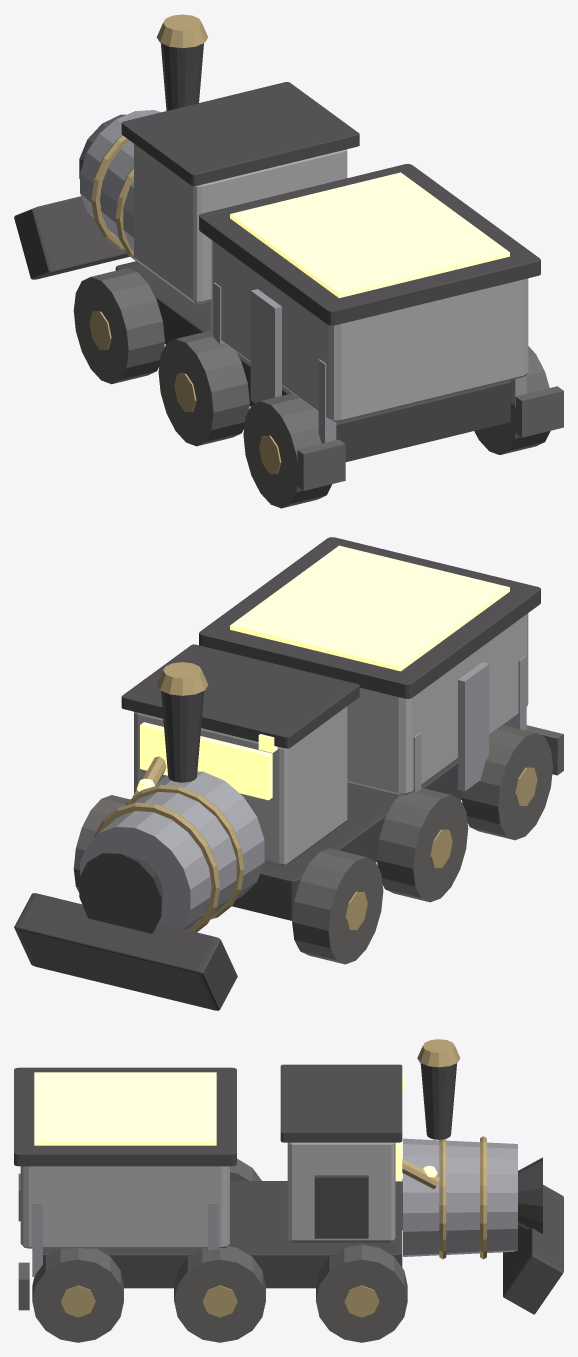
The model's file is unit_harvester.glb.
3 renders of one model, top to bottom at view 1: azimuth 30°, elevation 25°; view 2: azimuth 150°, elevation 25°; view 3: azimuth 270°, elevation 25°, orthographic. The views are drawn at different scales.
Parts seen in each view (by area): view 1: HV_Hopper, HV_Ore, HV_CabRoof, HV_HopperRim, HV_Cab, HV_Chassis, HV_Wheel.002, HV_Wheel.001, HV_Wheel, HV_Plow, HV_Boiler, HV_Ladder (+11 smaller); view 2: HV_Ore, HV_Plow, HV_Hopper, HV_Boiler, HV_HopperRim, HV_CabRoof, HV_Cab, HV_Wheel.002, HV_Wheel.001, HV_Chassis, HV_Wheel, HV_BoilerCap (+12 smaller); view 3: HV_Hopper, HV_Ore, HV_Boiler, HV_Chassis, HV_CabRoof, HV_HopperRim, HV_Cab, HV_Wheel.005, HV_Wheel.004, HV_Wheel.003, HV_Plow, HV_CabDoor (+13 smaller).
Part boxes in pixels (x1,y1,x2,y2): HV_Hopper: [211, 240, 528, 421]; HV_Ore: [230, 172, 509, 298]; HV_CabRoof: [121, 82, 359, 186]; HV_HopperRim: [199, 164, 540, 325]; HV_Cab: [134, 144, 347, 304]; HV_Chassis: [115, 261, 510, 461]; HV_Wheel.002: [73, 268, 164, 384]; HV_Wheel.001: [158, 330, 249, 446]; HV_Wheel: [243, 393, 332, 508]; HV_Plow: [14, 196, 129, 279]; HV_Boiler: [80, 110, 160, 250]; HV_Ladder: [250, 289, 281, 403]; HV_Ore: [230, 545, 509, 671]; HV_Plow: [14, 893, 237, 1010]; HV_Hopper: [347, 613, 528, 795]; HV_Boiler: [80, 771, 264, 929]; HV_HopperRim: [199, 537, 540, 698]; HV_CabRoof: [121, 644, 359, 748]; HV_Cab: [134, 706, 347, 866]; HV_Wheel.002: [292, 848, 383, 964]; HV_Wheel.001: [377, 787, 468, 902]; HV_Chassis: [232, 721, 509, 920]; HV_Wheel: [461, 725, 552, 840]; HV_BoilerCap: [79, 853, 162, 933]; HV_Hopper: [20, 1166, 229, 1248]; HV_Ore: [34, 1072, 216, 1145]; HV_Boiler: [403, 1138, 517, 1256]; HV_Chassis: [43, 1181, 402, 1288]; HV_CabRoof: [280, 1064, 402, 1142]; HV_HopperRim: [14, 1067, 236, 1166]; HV_Cab: [287, 1142, 395, 1242]; HV_Wheel.005: [316, 1244, 407, 1342]; HV_Wheel.004: [174, 1246, 265, 1342]; HV_Wheel.003: [32, 1247, 123, 1342]; HV_Plow: [503, 1185, 563, 1314]; HV_CabDoor: [314, 1175, 368, 1238].
Size of the model in its own units: 1.86 by 2 by 4.07.
